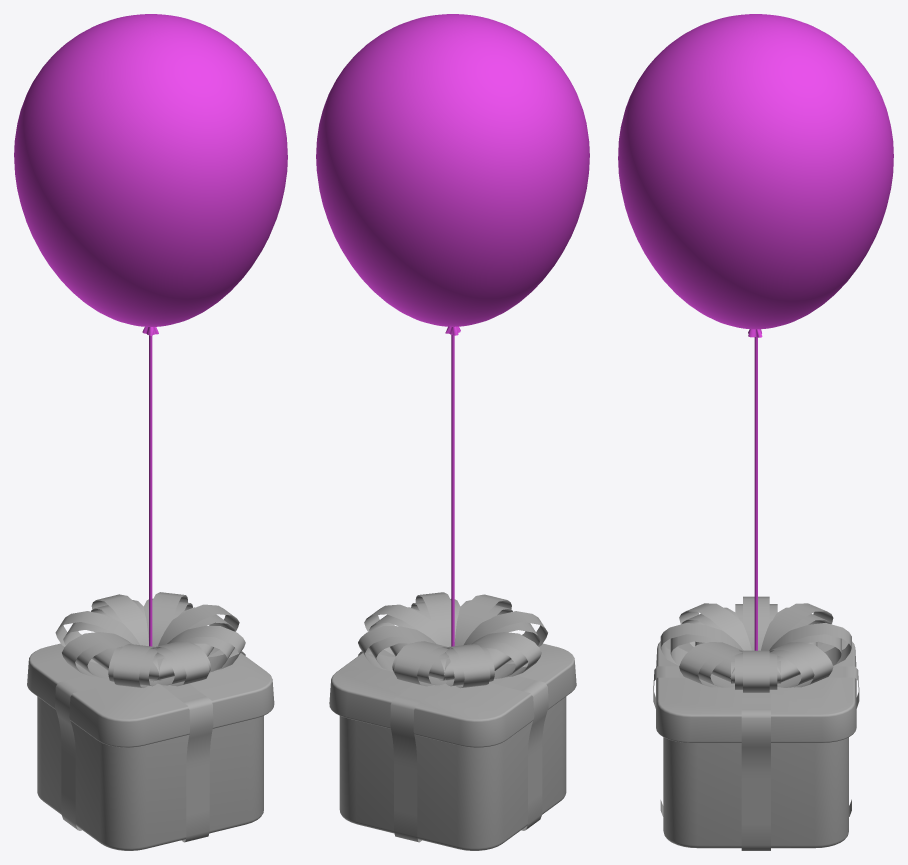
The model's file is balloon-box.fbx.
The picture shows the model from 3 angles, left to right: view 1: azimuth 30°, elevation 25°; view 2: azimuth 150°, elevation 25°; view 3: azimuth 270°, elevation 25°; orthographic projection.
Parts seen in each view (by area): view 1: ballon, Cube.002, Plane.005, Cube.001; view 2: ballon, Plane.005, Cube.002, Cube.001; view 3: ballon, Plane.005, Cube.002, Cube.001.
Part boxes in pixels (x1,y1,x2,y2): ballon: (14, 14, 287, 646); Cube.002: (37, 696, 263, 850); Plane.005: (55, 592, 245, 842); Cube.001: (27, 643, 274, 747); ballon: (316, 14, 589, 646); Plane.005: (358, 592, 548, 842); Cube.002: (339, 697, 566, 850); Cube.001: (329, 643, 576, 747); ballon: (618, 14, 893, 650); Plane.005: (653, 596, 859, 850); Cube.002: (663, 737, 848, 848); Cube.001: (656, 638, 856, 742).
Size of the model in its own units: 4.15 by 13.06 by 4.15.
